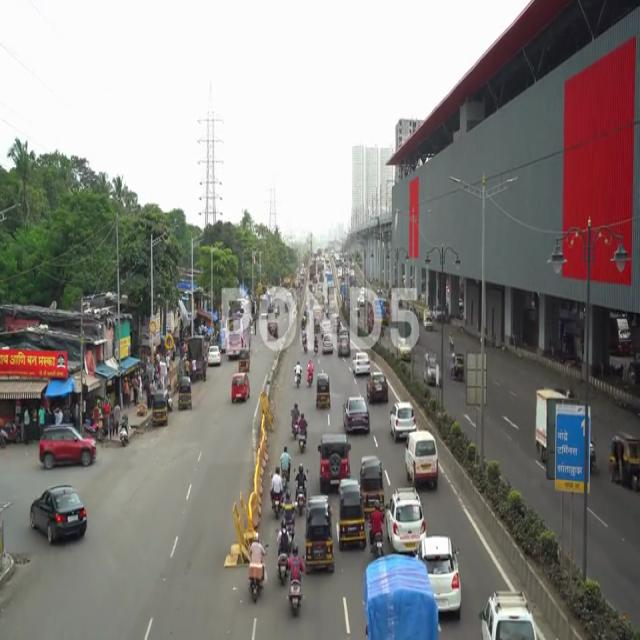car: (26, 484, 89, 551), (477, 594, 540, 640), (37, 425, 97, 466), (387, 496, 423, 551), (404, 432, 440, 481), (317, 432, 347, 484), (344, 394, 366, 437), (389, 402, 415, 437), (366, 372, 388, 402), (231, 372, 251, 404), (354, 354, 371, 372)
motorbike: (250, 529, 266, 602), (289, 546, 304, 618), (276, 516, 288, 587), (268, 462, 281, 514), (280, 445, 294, 491), (296, 464, 306, 514), (298, 413, 307, 451), (294, 363, 302, 389)
rikshaw: (308, 496, 333, 575), (339, 479, 363, 554), (611, 433, 640, 494)
